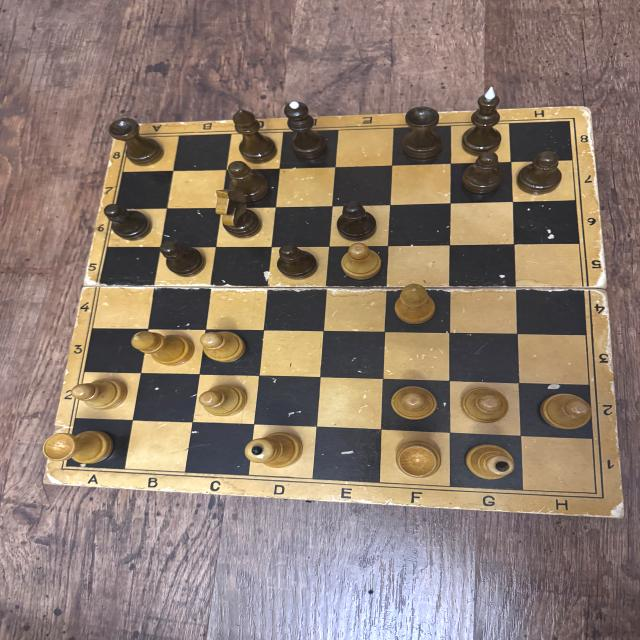black-bishop: (230, 108, 279, 164)
black-king: (462, 86, 505, 155)
black-knight: (214, 187, 263, 237)
black-pawn: (518, 148, 562, 194), (461, 150, 504, 195), (102, 203, 152, 241), (334, 200, 378, 241), (226, 162, 270, 203), (274, 242, 319, 280), (161, 241, 206, 277)
black-queen: (284, 100, 332, 162)
black-rook: (106, 116, 164, 167), (399, 106, 446, 162)
white-bishop: (131, 330, 195, 368), (394, 283, 437, 325)
white-king: (466, 444, 516, 481)
white-pawn: (457, 386, 511, 424), (540, 393, 592, 430), (388, 385, 440, 421), (70, 379, 127, 411), (199, 331, 247, 363), (341, 243, 383, 279), (198, 386, 248, 416)
white-queen: (244, 430, 306, 470)
white-rook: (41, 432, 114, 464), (396, 442, 441, 478)
